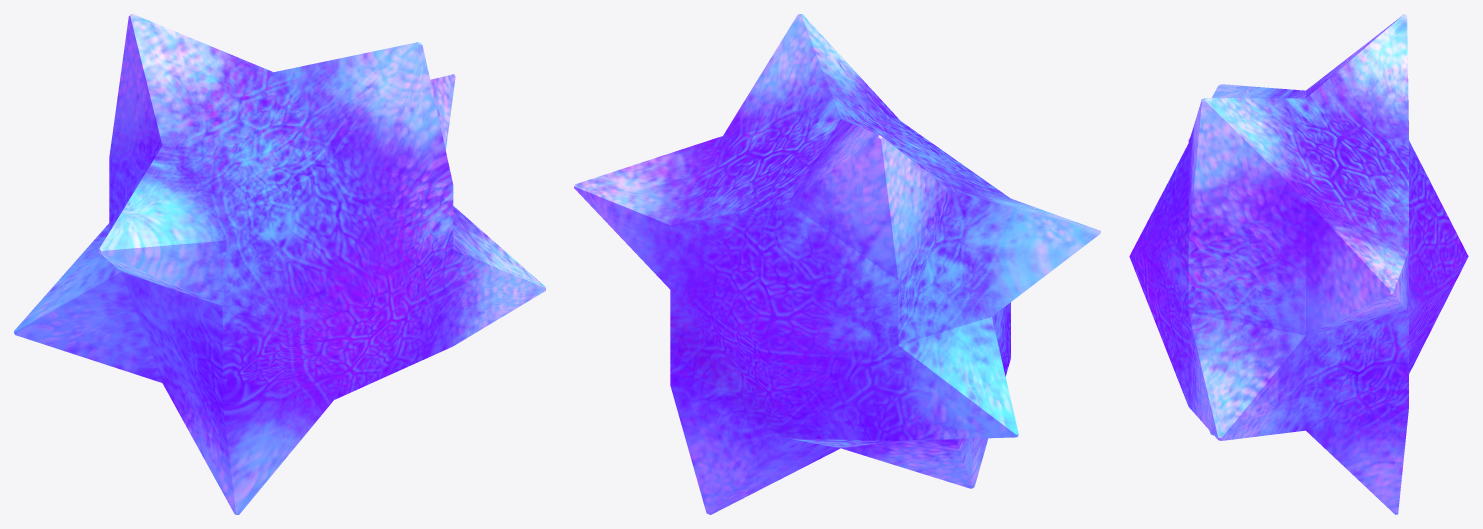
The model's file is skewer_ball-projectile.glb.
3 renders of one model, left to right at view 1: azimuth 30°, elevation 25°; view 2: azimuth 150°, elevation 25°; view 3: azimuth 270°, elevation 25°, orthographic. The views are drawn at different scales.
Parts seen in each view (by area): view 1: bolita puas; view 2: bolita puas; view 3: bolita puas.
Boxes of the visible parts, left/top/right/bottom form: bolita puas: left=14, top=14, right=545, bottom=514; bolita puas: left=574, top=14, right=1100, bottom=514; bolita puas: left=1129, top=14, right=1468, bottom=514.
Size of the model in its own units: 95.41 by 88.19 by 64.43.
Materials: 1 (1 with a texture image).
